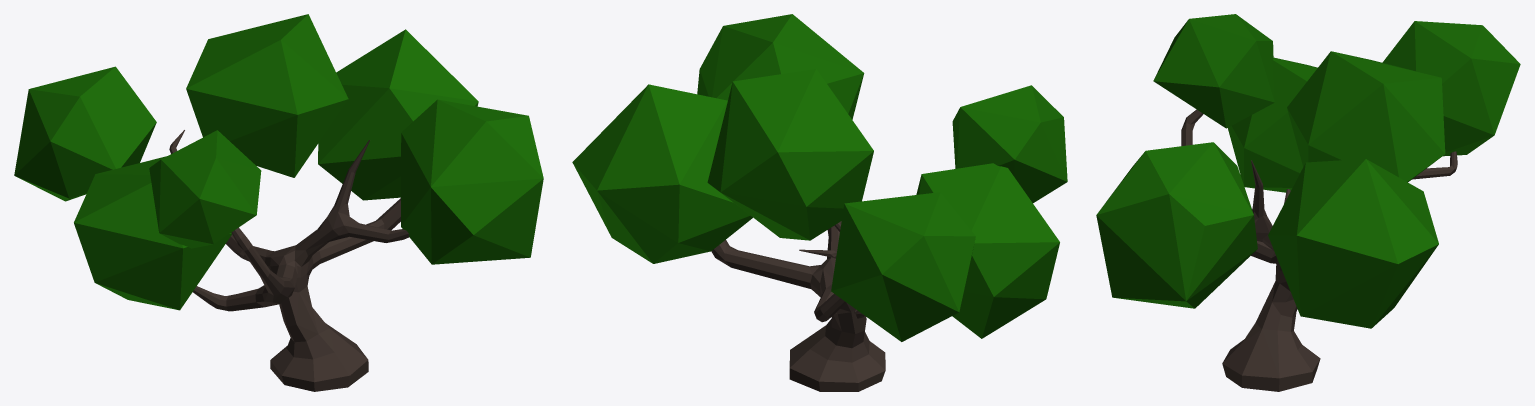
Rendered from Oak_Tree_Spring.fbx.
3 views of the same model, side by side, from view 1: azimuth 30°, elevation 25°; view 2: azimuth 150°, elevation 25°; view 3: azimuth 270°, elevation 25° (orthographic). The views are drawn at different scales.
Parts seen in each view (by area): view 1: Oak_Tree_Spring; view 2: Oak_Tree_Spring; view 3: Oak_Tree_Spring.
Part boxes in pixels (x1=…): Oak_Tree_Spring: x1=14, y1=14, x2=543, y2=391; Oak_Tree_Spring: x1=572, y1=14, x2=1067, y2=391; Oak_Tree_Spring: x1=1096, y1=14, x2=1520, y2=391.
Bounding box in the file's own units: 827 × 600 × 717.
